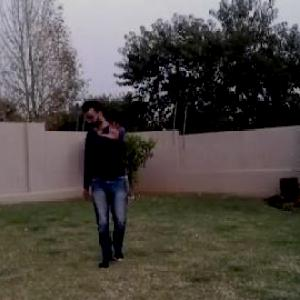follow_hand: (100, 113, 124, 141)
